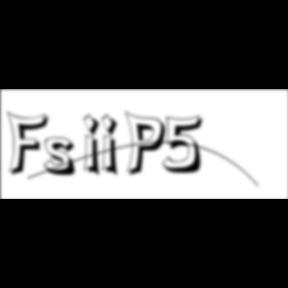5: (162, 114, 210, 176)
F: (7, 110, 55, 178)
P: (124, 110, 171, 180)
i: (84, 112, 108, 180), (102, 112, 126, 180)
s: (44, 137, 83, 179)
